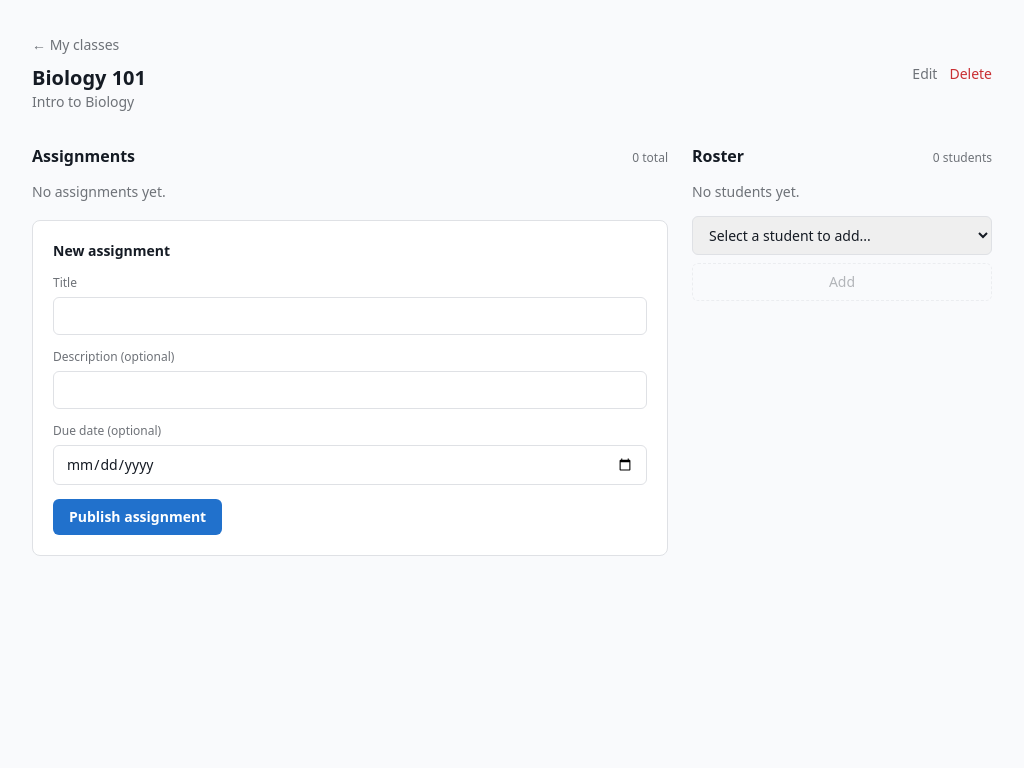
Scenario: ClassDetailPage › shows an error when adding a student fails
Expected: the text "No students yet." is shown, [692, 182, 800, 201]
Select "Sam Student (sam@example.com)" in the dropdown at (842, 236), box [692, 216, 992, 255]
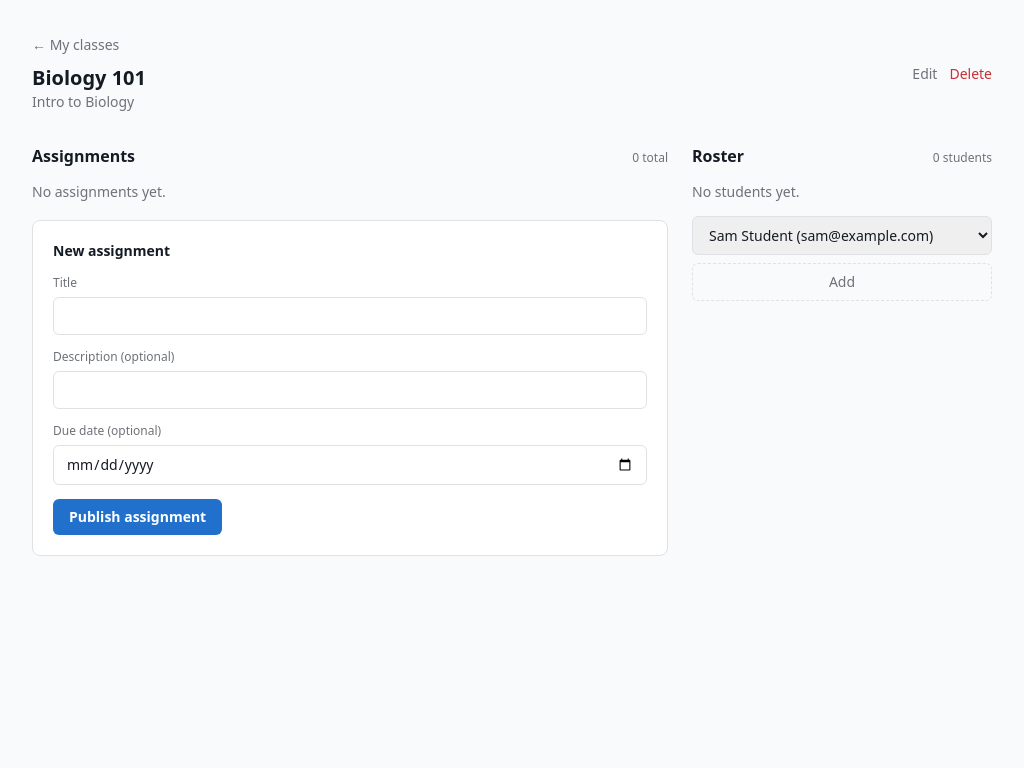
Click the button "Add" at (842, 282), box [692, 263, 992, 301]
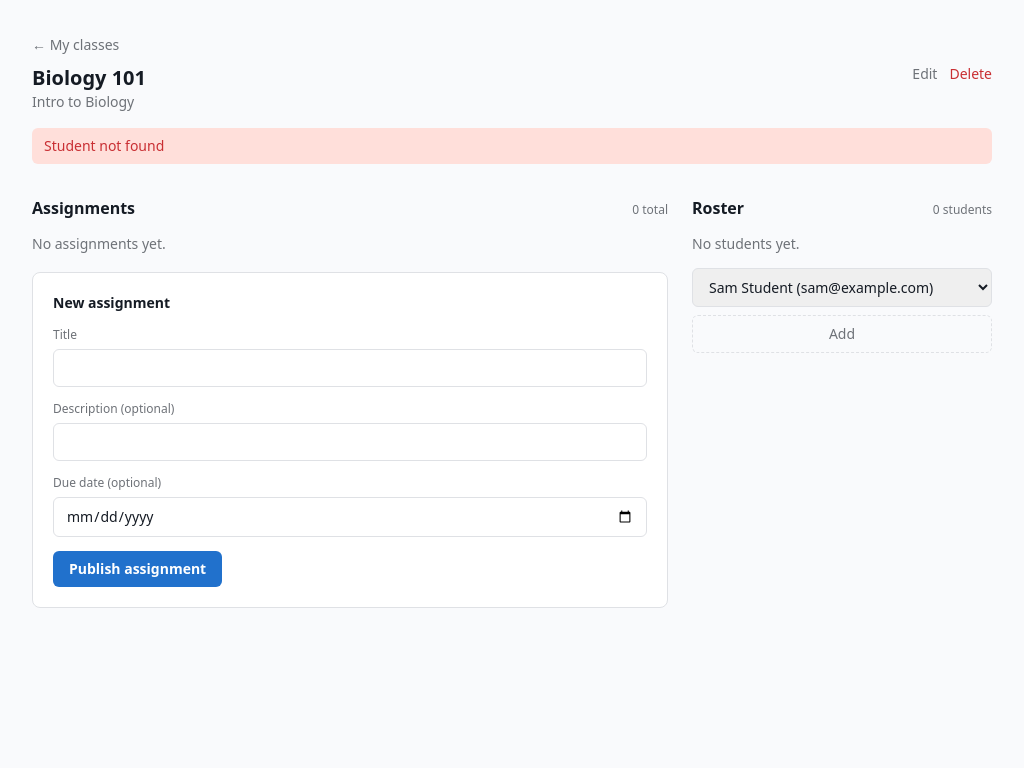
Result: the message reads "Student not found" at [44, 136, 164, 155]
